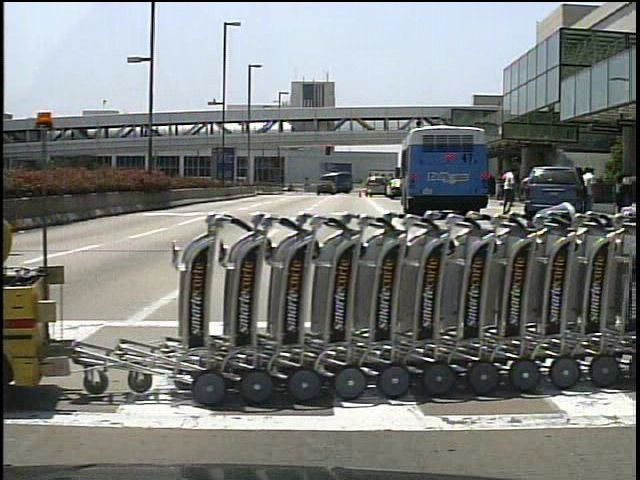person: (580, 165, 601, 214), (498, 166, 517, 215), (518, 168, 537, 215), (573, 165, 588, 219)
